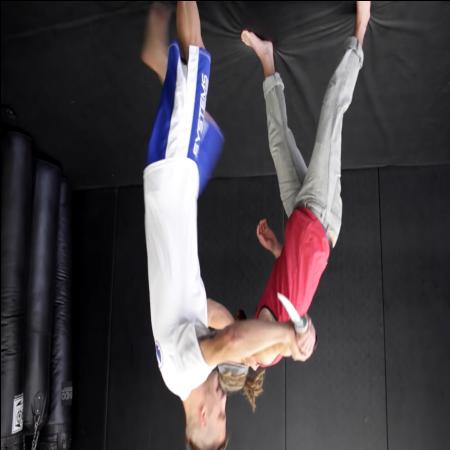long weapon: (273, 285, 319, 355)
